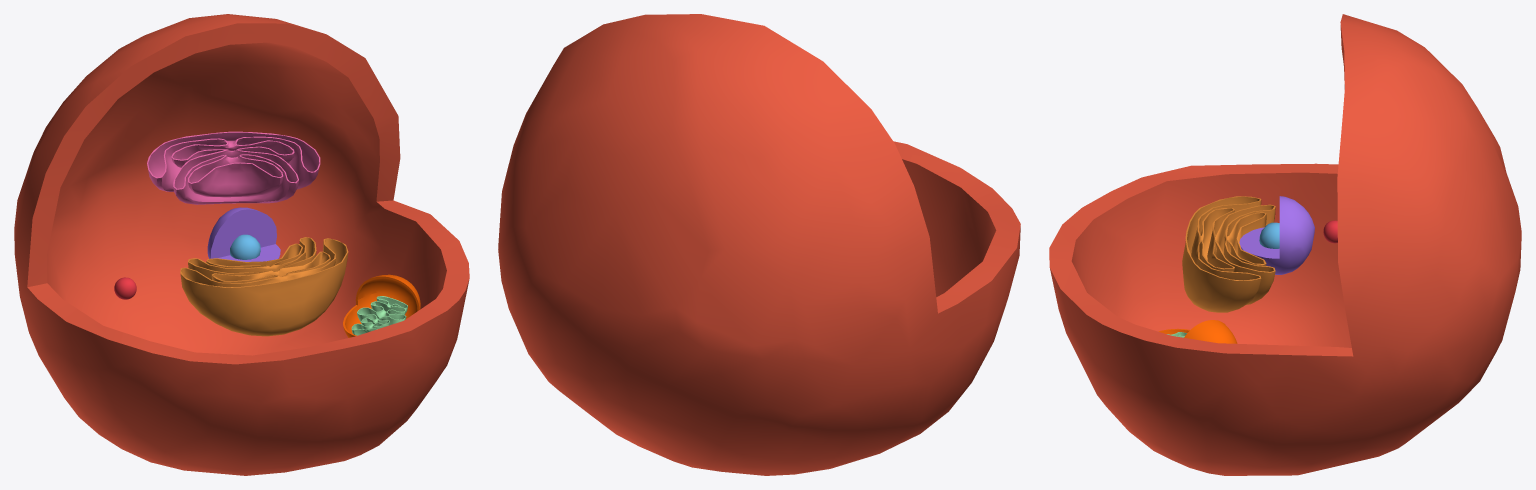
File: SANTIAGO_AMORES_CEL.LULA_ANIMAL.fbx
3 renders of one model, left to right at view 1: azimuth 30°, elevation 25°; view 2: azimuth 150°, elevation 25°; view 3: azimuth 270°, elevation 25°, orthographic. The views are drawn at different scales.
Parts seen in each view (by area): view 1: MEMBRANA CELULAR, RETÍCULO ENDOPLASMÁTICO, APARATO DE GOLGI, NÚCLEO, MITOCONDRIA, INTERIOR MITOCONDRIA, LISOSOMA.001; view 2: MEMBRANA CELULAR; view 3: MEMBRANA CELULAR, RETÍCULO ENDOPLASMÁTICO, NÚCLEO, MITOCONDRIA.
Part boxes in pixels (left/top/right/bottom): MEMBRANA CELULAR: left=14, top=14, right=469, bottom=475; RETÍCULO ENDOPLASMÁTICO: left=180, top=237, right=348, bottom=336; APARATO DE GOLGI: left=147, top=131, right=320, bottom=204; NÚCLEO: left=207, top=207, right=280, bottom=261; MITOCONDRIA: left=343, top=274, right=420, bottom=337; INTERIOR MITOCONDRIA: left=351, top=296, right=407, bottom=335; LISOSOMA.001: left=230, top=234, right=260, bottom=259; MEMBRANA CELULAR: left=498, top=14, right=1020, bottom=475; MEMBRANA CELULAR: left=1049, top=14, right=1521, bottom=475; RETÍCULO ENDOPLASMÁTICO: left=1182, top=196, right=1275, bottom=312; NÚCLEO: left=1239, top=196, right=1314, bottom=274; MITOCONDRIA: left=1159, top=320, right=1237, bottom=343.
Size of the model in its own units: 169 by 168 by 176.
